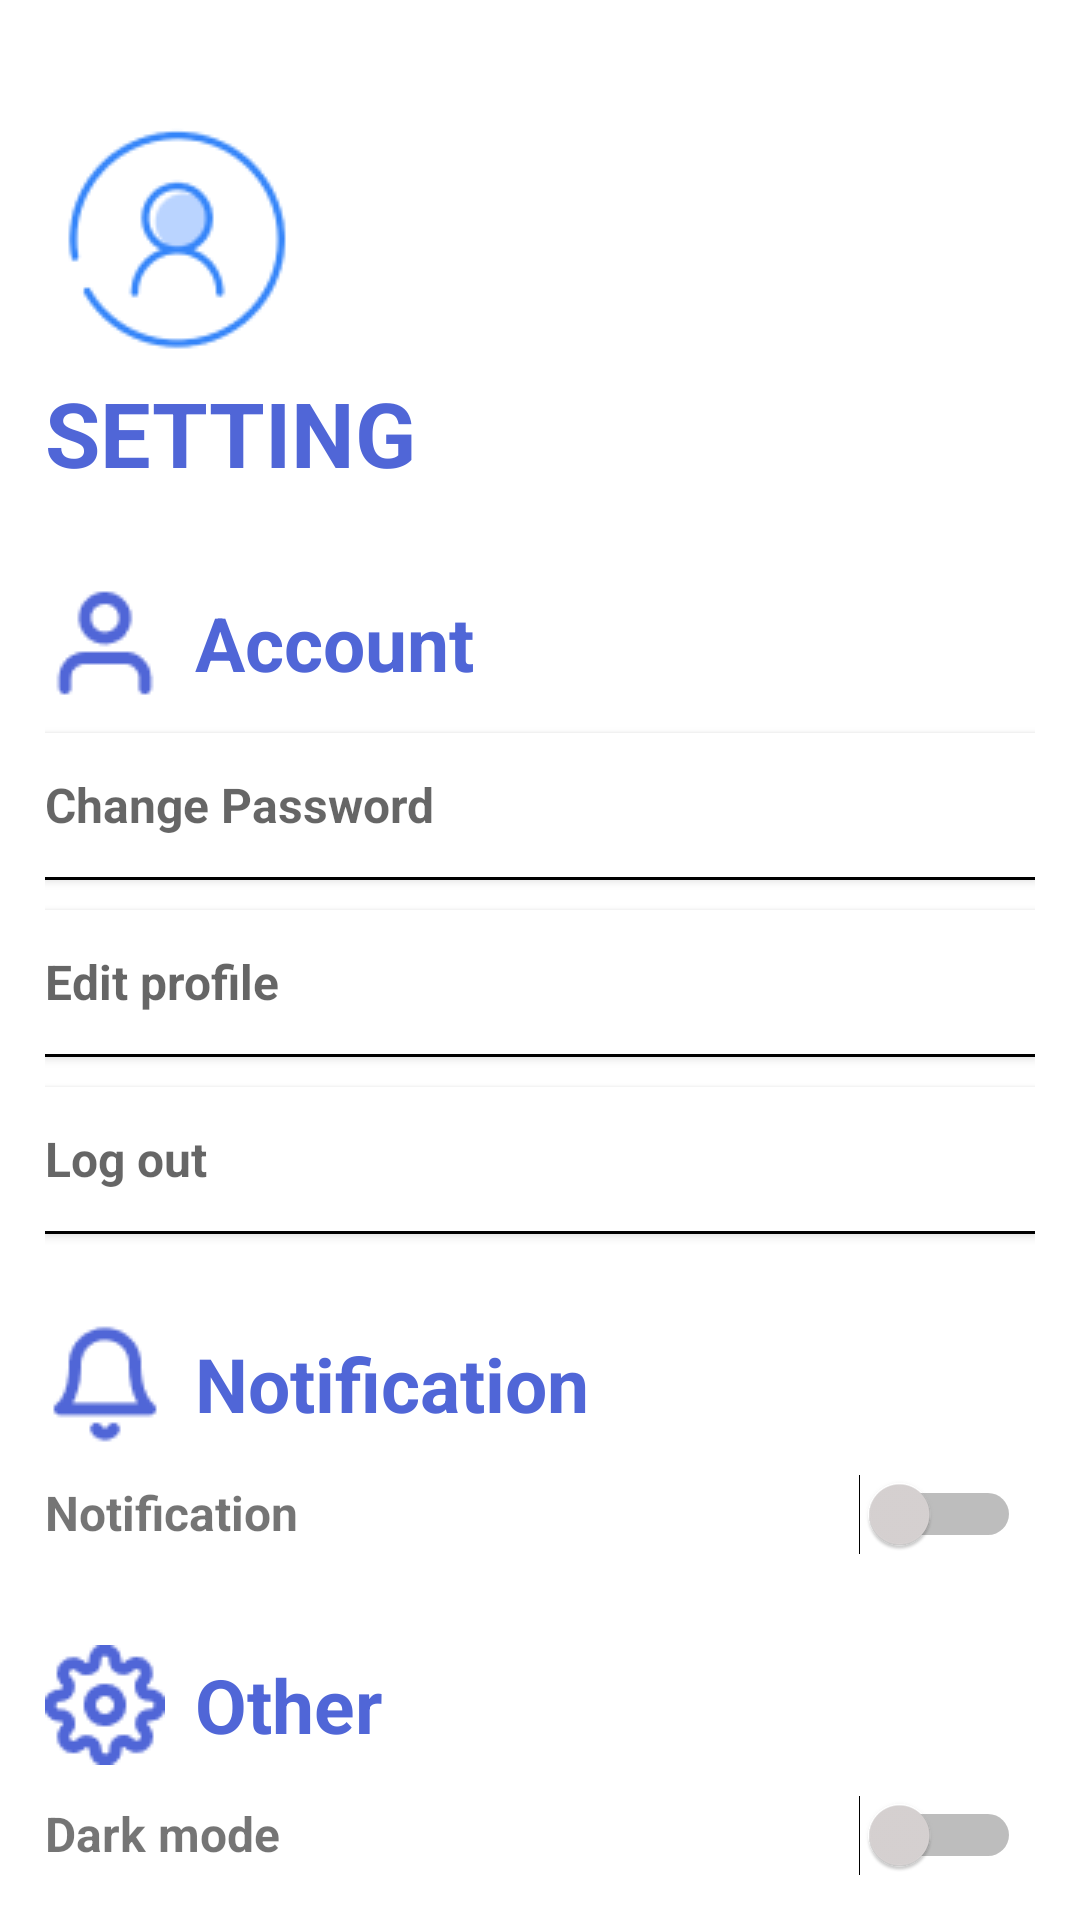

Icons on this 1080*1920 Android screen, each with the point to tap as (x,y):
Image User Profile: (177,240)
setting: (105,1705)
user: (105,643)
